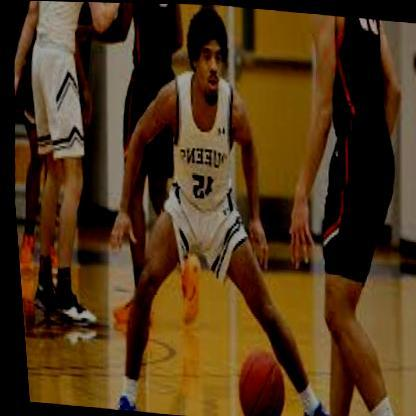basketball: (227, 346, 284, 416)
